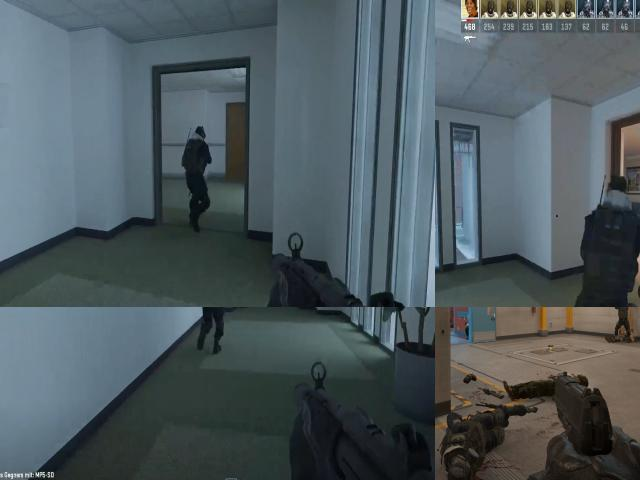Bomb: (546, 341, 558, 352)
CT: (574, 168, 640, 307), (181, 120, 207, 189), (614, 307, 629, 333)
CT-Head: (595, 171, 633, 218), (190, 120, 206, 147)
Dead: (447, 396, 531, 480), (602, 327, 638, 346)
